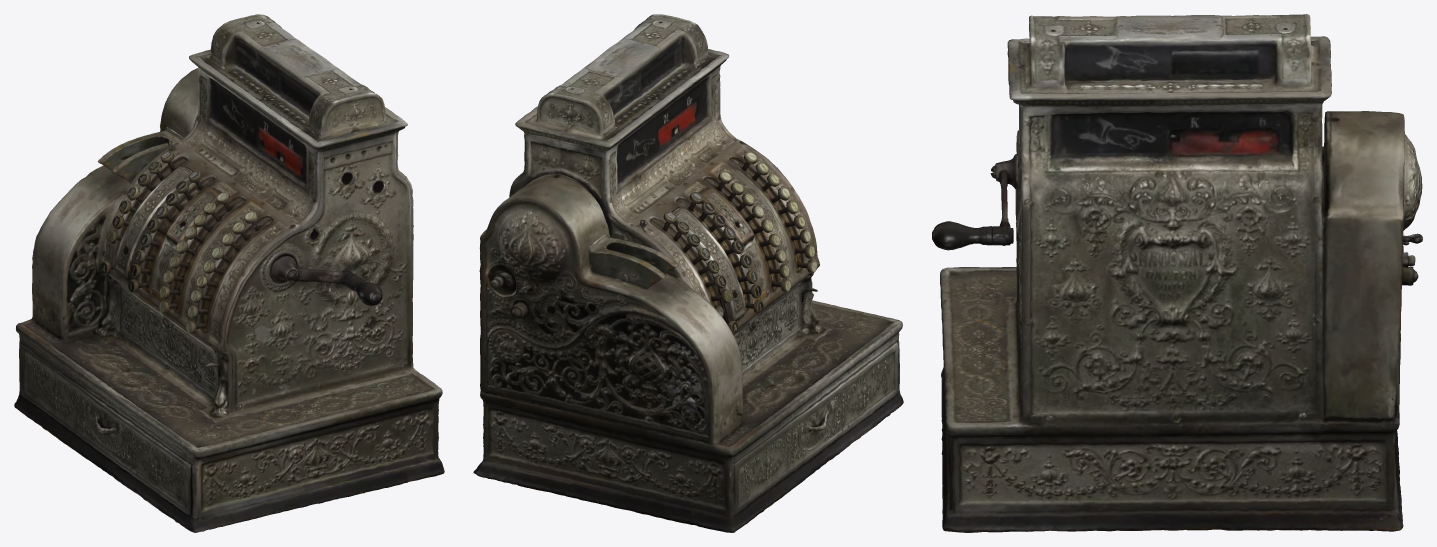
The model's file is cash-transformed.glb.
The picture shows the model from 3 angles, left to right: view 1: azimuth 30°, elevation 25°; view 2: azimuth 150°, elevation 25°; view 3: azimuth 270°, elevation 25°; orthographic projection. The views are drawn at different scales.
Visible parts, largest first — view 1: kw_3434_kasa_z_urzadzlicz_01_low_poly_14___Default_0; view 2: kw_3434_kasa_z_urzadzlicz_01_low_poly_14___Default_0; view 3: kw_3434_kasa_z_urzadzlicz_01_low_poly_14___Default_0.
Boxes of the visible parts, left/top/right/bottom form: kw_3434_kasa_z_urzadzlicz_01_low_poly_14___Default_0: left=14, top=14, right=444, bottom=532; kw_3434_kasa_z_urzadzlicz_01_low_poly_14___Default_0: left=473, top=14, right=903, bottom=532; kw_3434_kasa_z_urzadzlicz_01_low_poly_14___Default_0: left=932, top=14, right=1422, bottom=532.
Size of the model in its own units: 380 by 512 by 484.
Materials: 1 (1 with a texture image).
